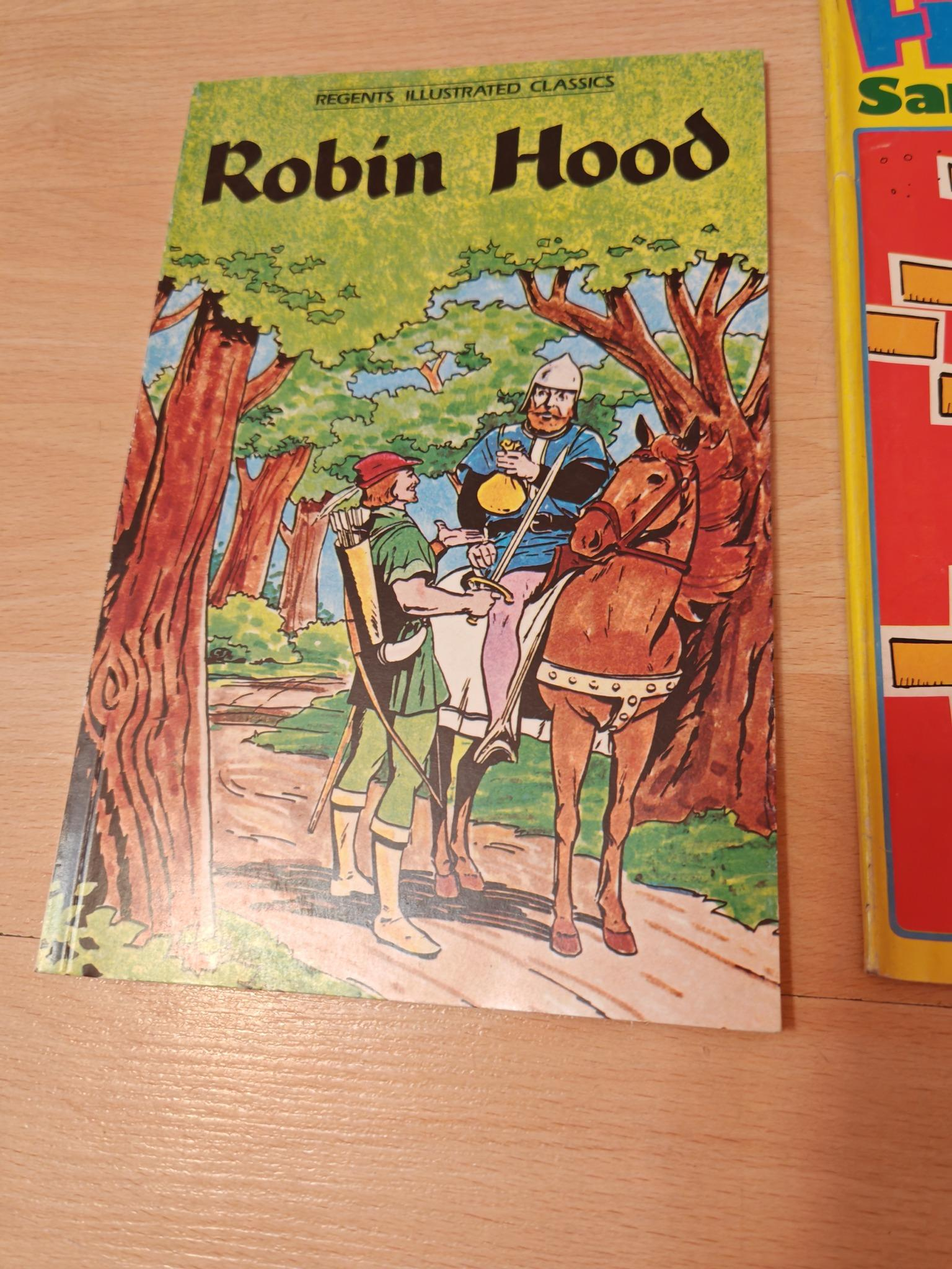comic: (40, 3, 855, 1030)
